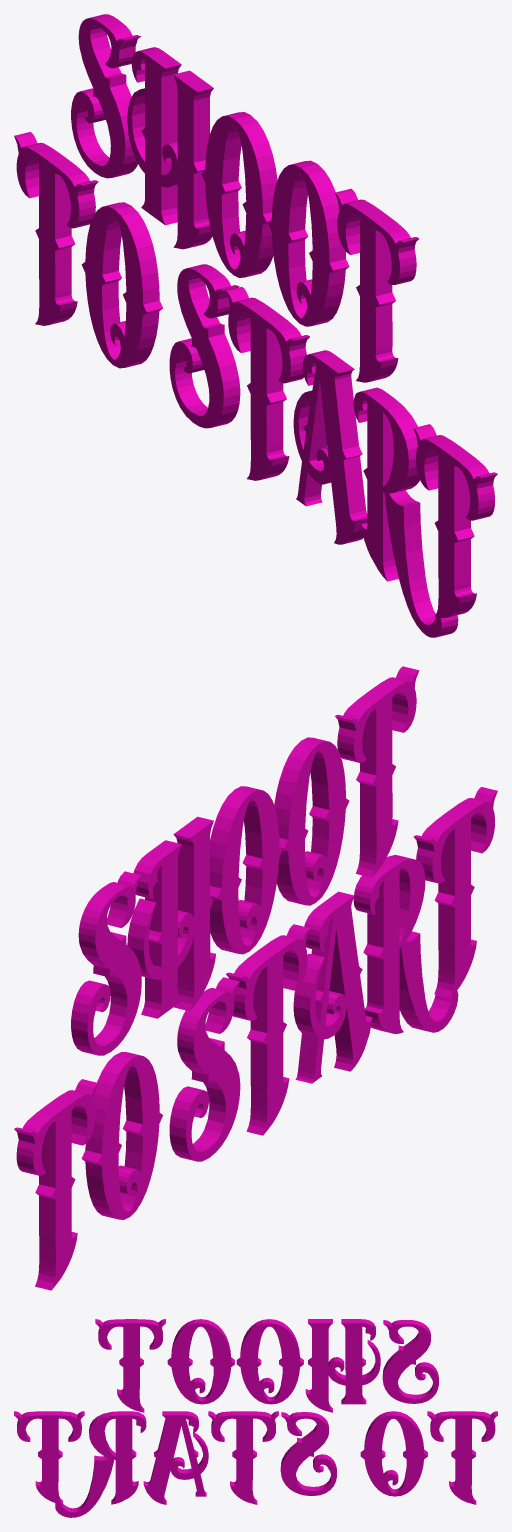
The model's file is ShootToStart.fbx.
3 renders of one model, top to bottom at view 1: azimuth 30°, elevation 25°; view 2: azimuth 150°, elevation 25°; view 3: azimuth 270°, elevation 25°, orthographic. The views are drawn at different scales.
Visible parts, largest first — view 1: Model Text Moyers - Carnival [14168]; view 2: Model Text Moyers - Carnival [14168]; view 3: Model Text Moyers - Carnival [14168].
Boxes of the visible parts, x1,y1,x2,y2 form: Model Text Moyers - Carnival [14168]: [14, 14, 497, 637]; Model Text Moyers - Carnival [14168]: [14, 666, 497, 1290]; Model Text Moyers - Carnival [14168]: [14, 1319, 497, 1517].
Bounding box in the file's own units: 5 × 109 × 245.
